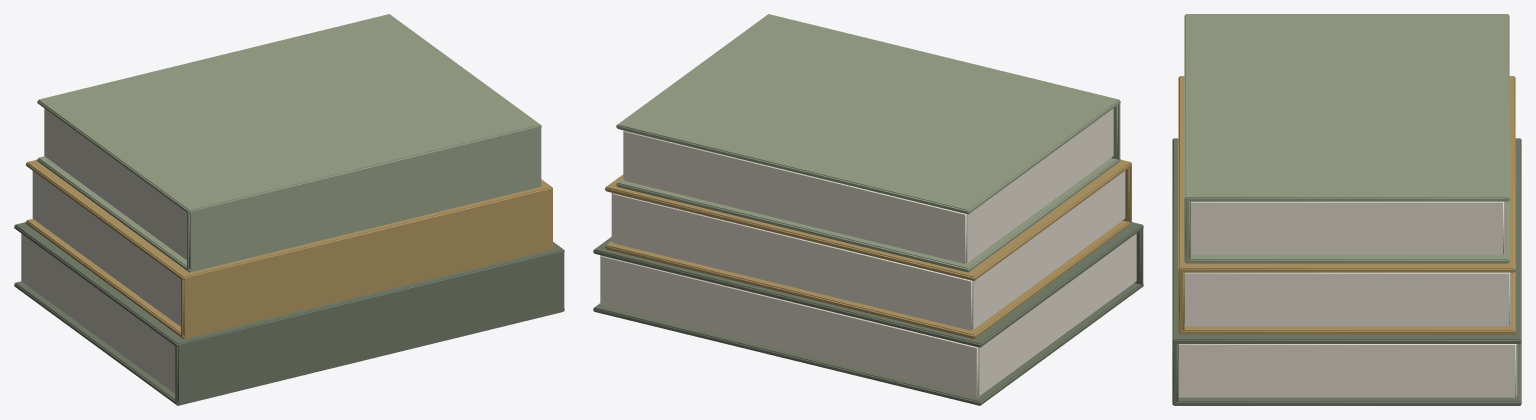
Rendered from country.book_stack.gltf.
3 renders of one model, left to right at view 1: azimuth 30°, elevation 25°; view 2: azimuth 150°, elevation 25°; view 3: azimuth 270°, elevation 25°, orthographic. The views are drawn at different scales.
Parts seen in each view (by area): view 1: country.book_stack.pages; view 2: country.book_stack.pages; view 3: country.book_stack.pages.
Boxes of the visible parts, x1,y1,x2,y2 form: country.book_stack.pages: [14, 14, 564, 405]; country.book_stack.pages: [593, 14, 1143, 405]; country.book_stack.pages: [1172, 14, 1521, 405].
Bounding box in the file's own units: 0.26 × 0.12 × 0.19.
